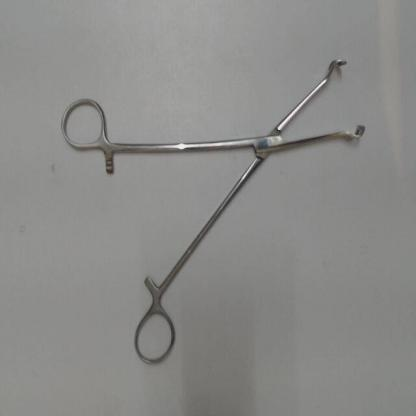8 Babcock Tissue Forceps: (52, 54, 372, 374)
